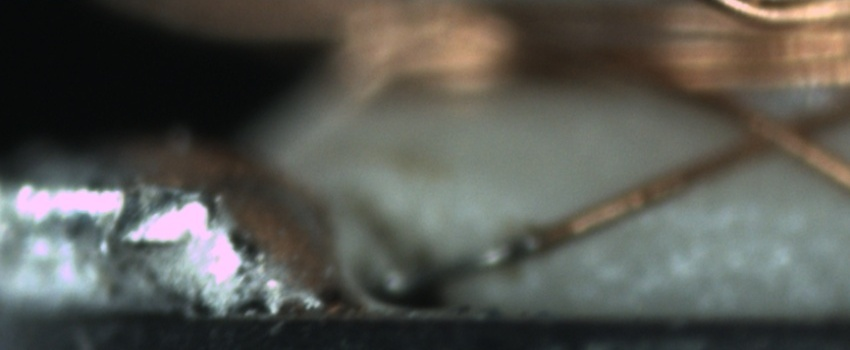CL: (711, 101, 838, 160)
TS: (375, 231, 539, 298)
